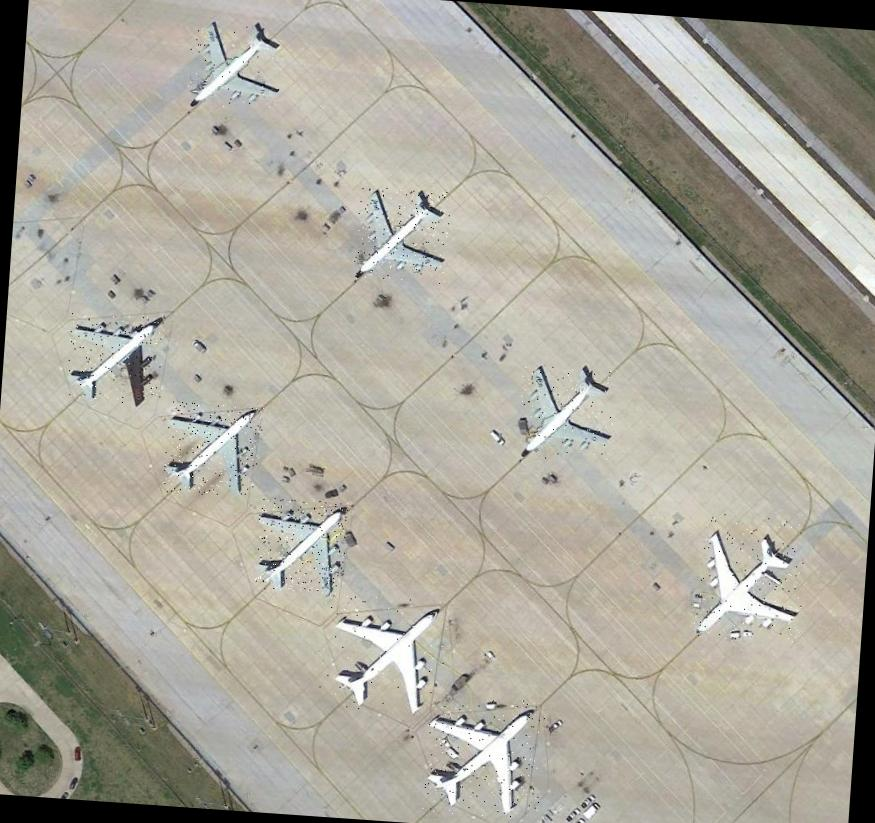A11: (317, 589, 450, 715), (421, 692, 545, 819), (692, 510, 806, 642), (516, 363, 615, 462), (162, 400, 263, 497), (352, 185, 451, 283), (65, 310, 165, 406), (254, 496, 348, 594), (185, 20, 285, 110)
